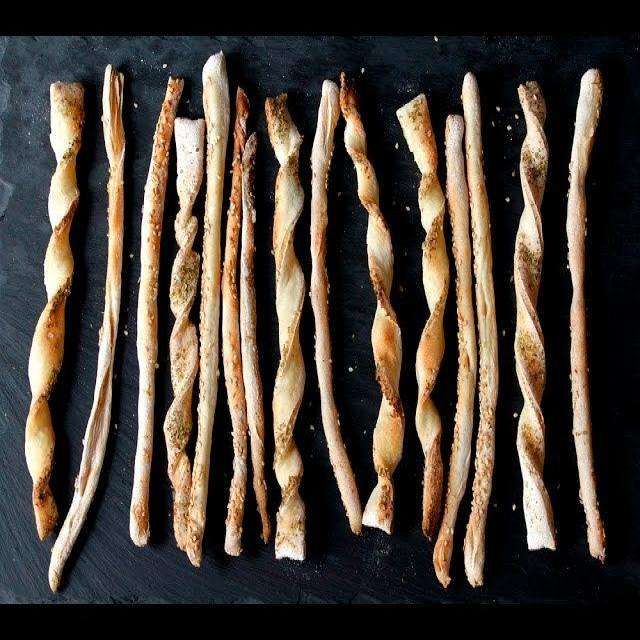Grissini: (25, 55, 612, 579)
